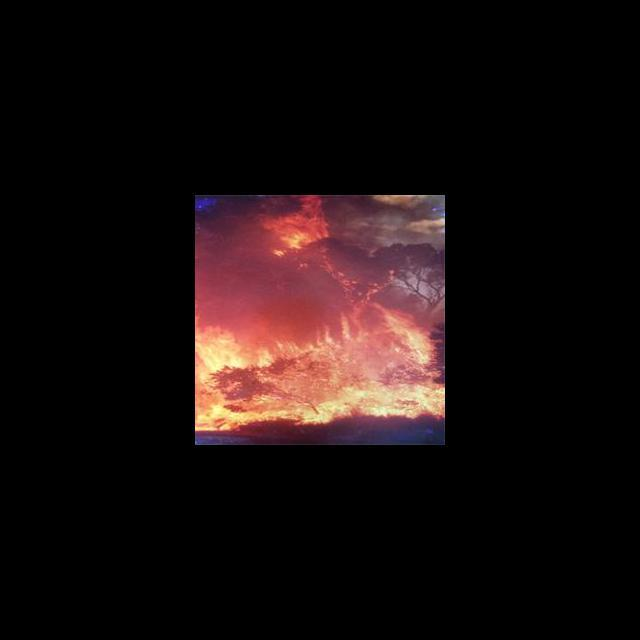Fire: (196, 301, 444, 432), (256, 196, 331, 266)
